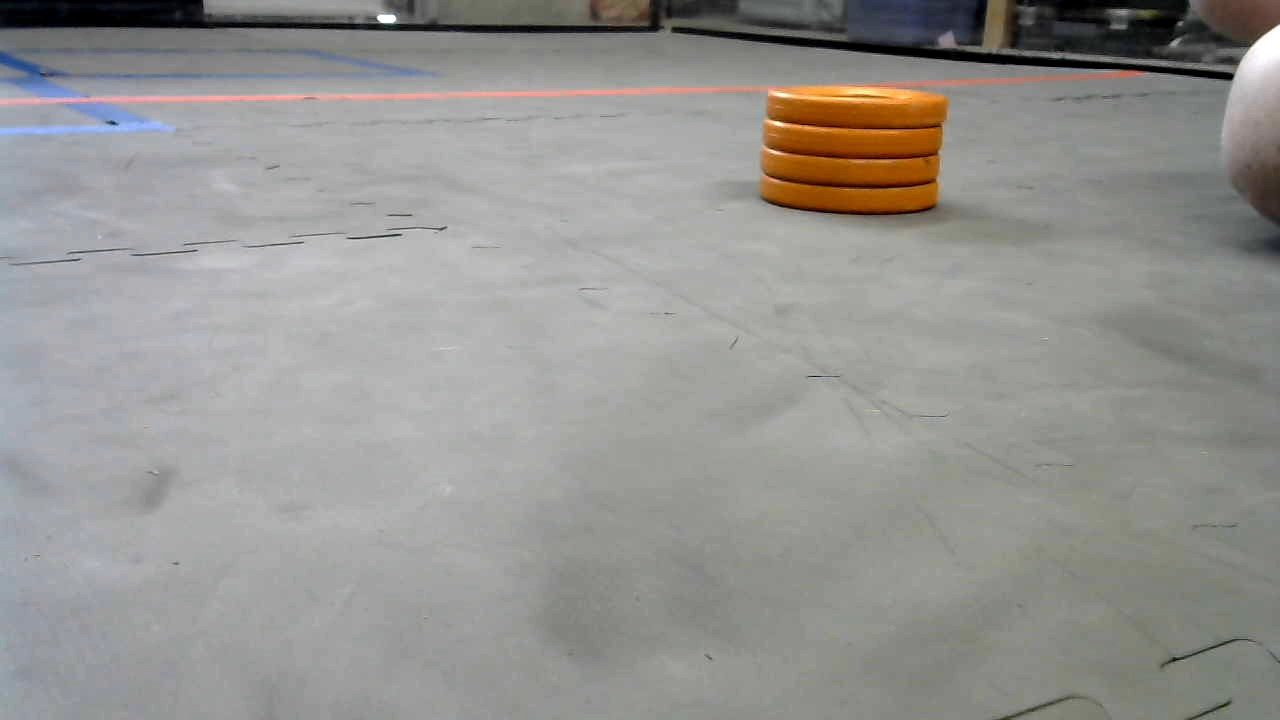FourStack: (759, 86, 948, 215)
